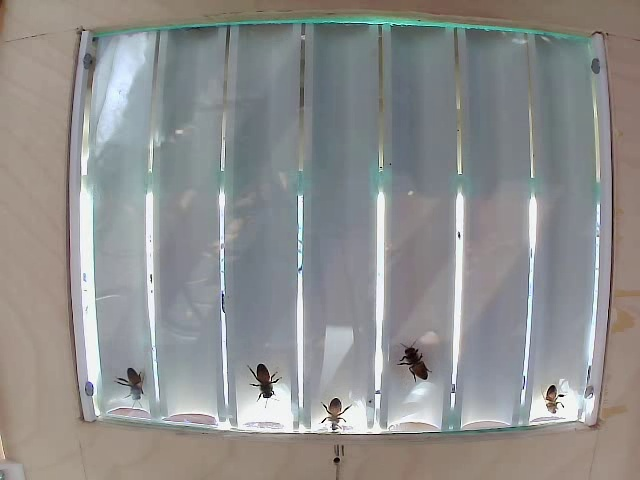bee: (108, 365, 159, 409), (246, 360, 292, 400), (396, 342, 433, 378)
